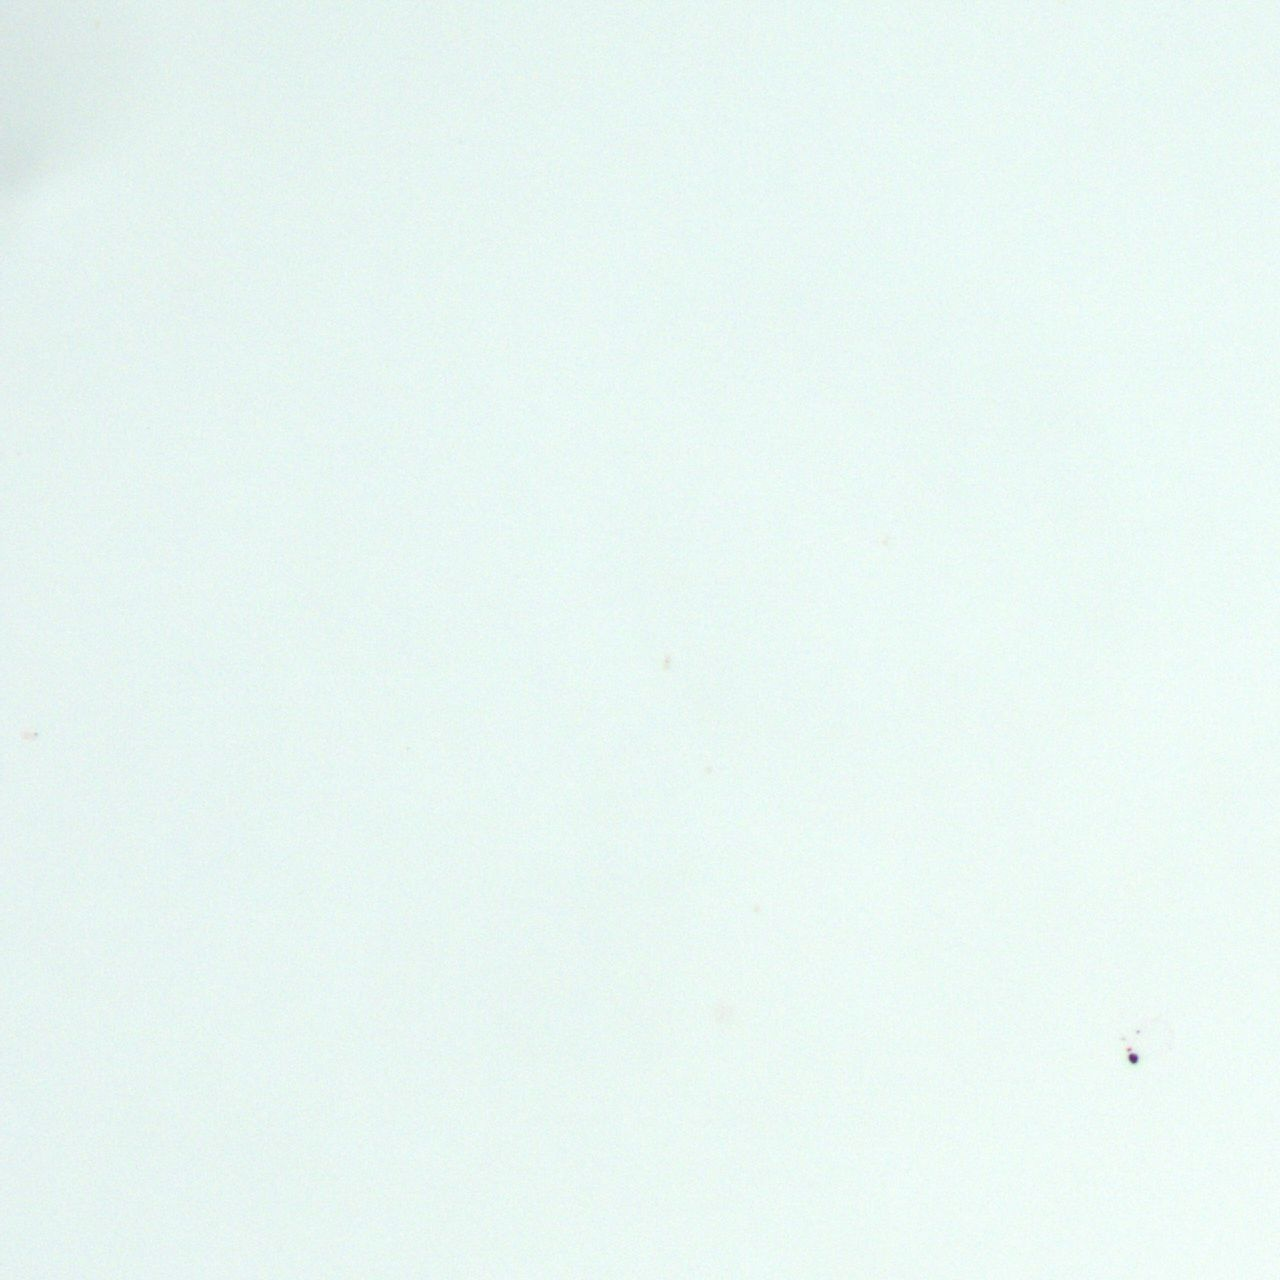dust: (1126, 1053, 1139, 1064), (1133, 1029, 1141, 1035), (1125, 1046, 1131, 1051), (1119, 1036, 1124, 1041)
